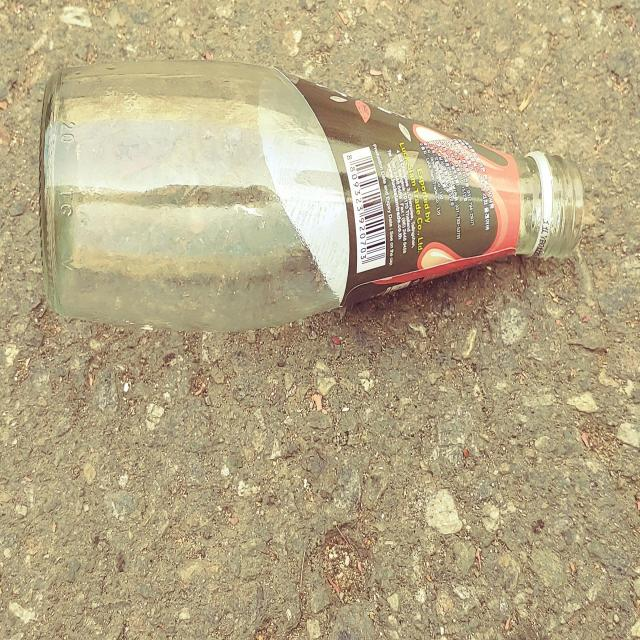glass: (39, 61, 585, 330)
